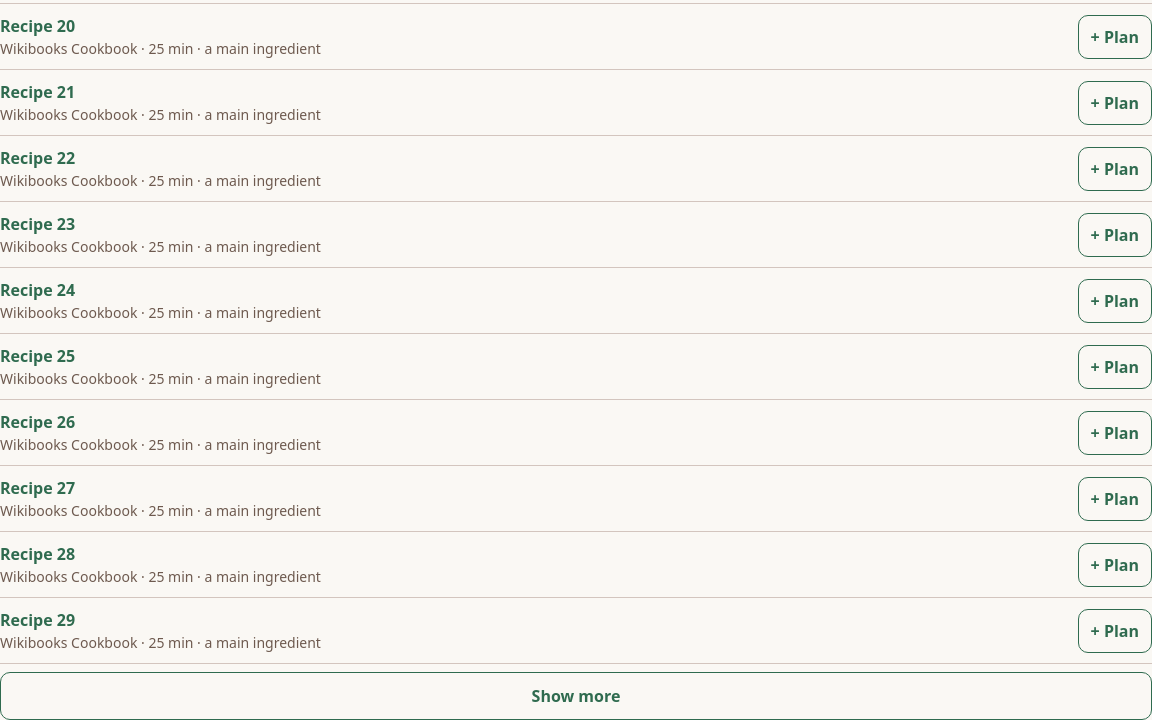
it: Browse › shows more results on request
The image size is (1152, 720).
(page scrolled)
Step 1. Click the button "Show more" → (576, 696), box top-left (0, 672), bottom-right (1151, 719)
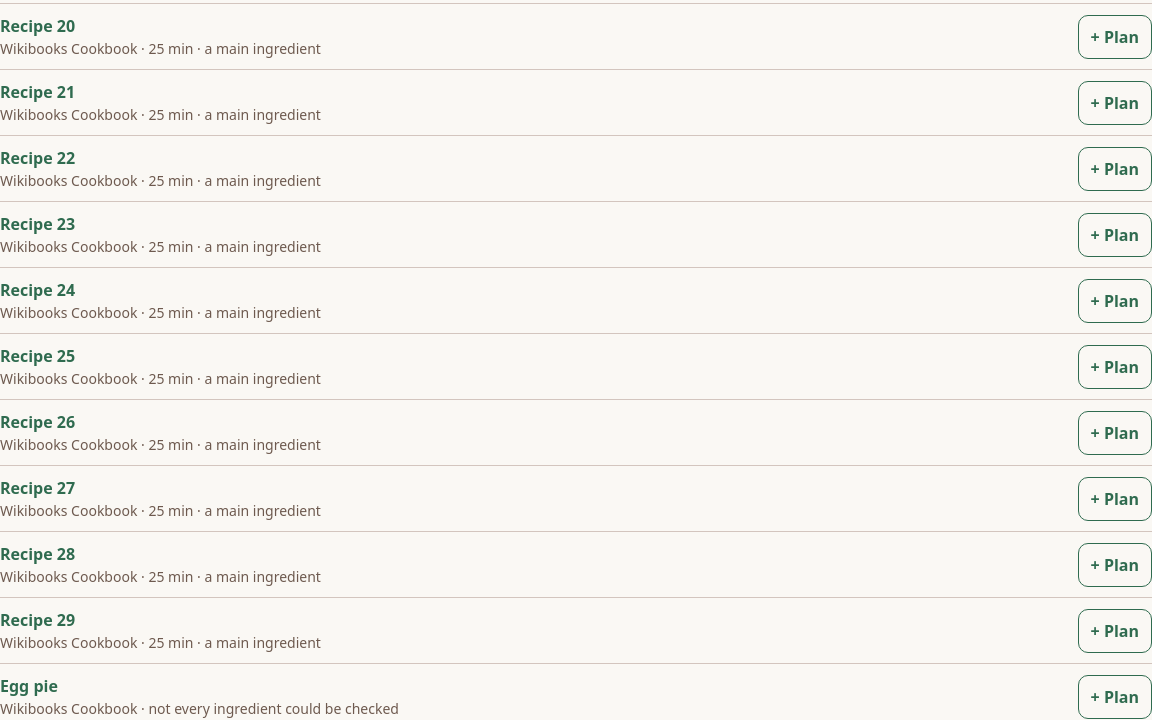
Now the link "Egg pie" is shown, box top-left (0, 675), bottom-right (58, 697)
Now the button "Show more" is gone
